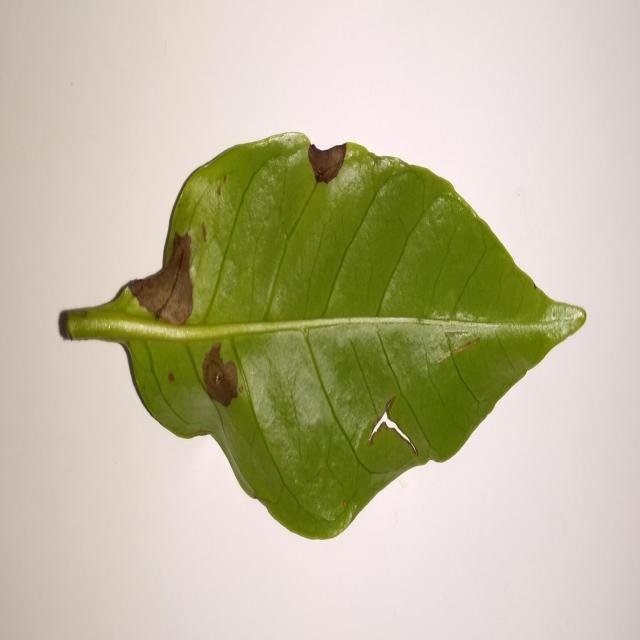Enfermedad-Antracnosis: (58, 133, 588, 542)
